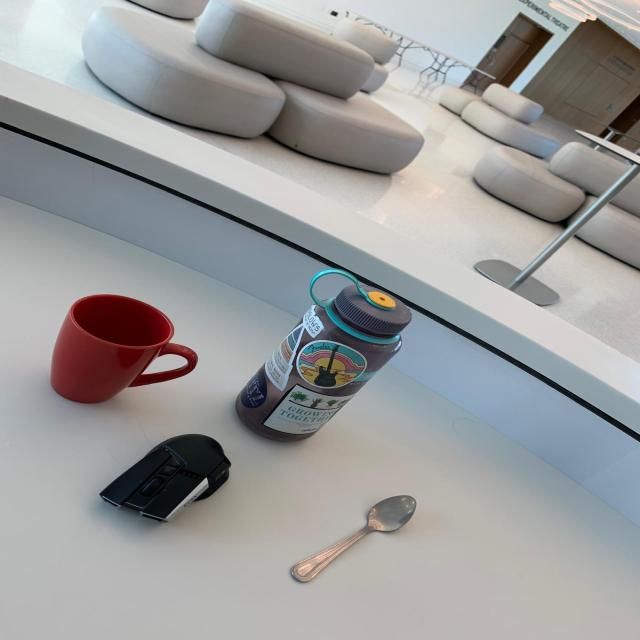Cup: (19, 290, 221, 410)
Mouse: (99, 431, 243, 527)
Spoon: (267, 492, 432, 594)
